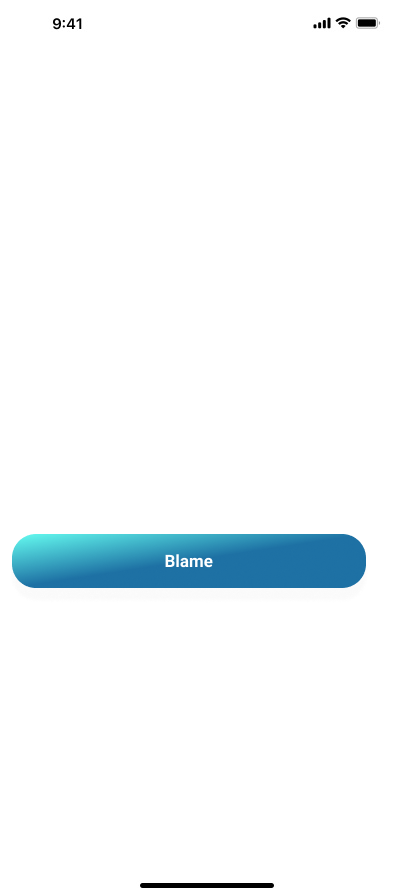Buttons: (8, 534, 374, 604)
Home Indicator: (0, 862, 414, 896)
Status Bar: (0, 0, 414, 44)
